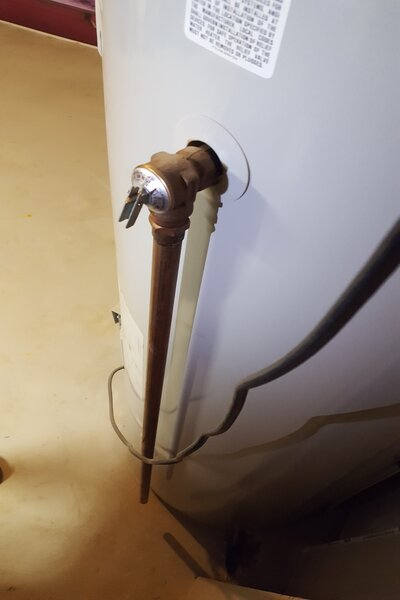valve: (120, 142, 204, 256)
